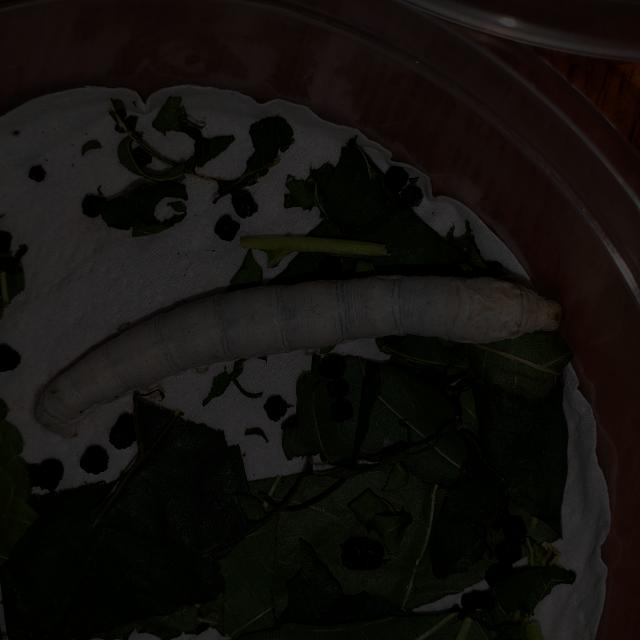Healthy: (16, 250, 582, 451)
